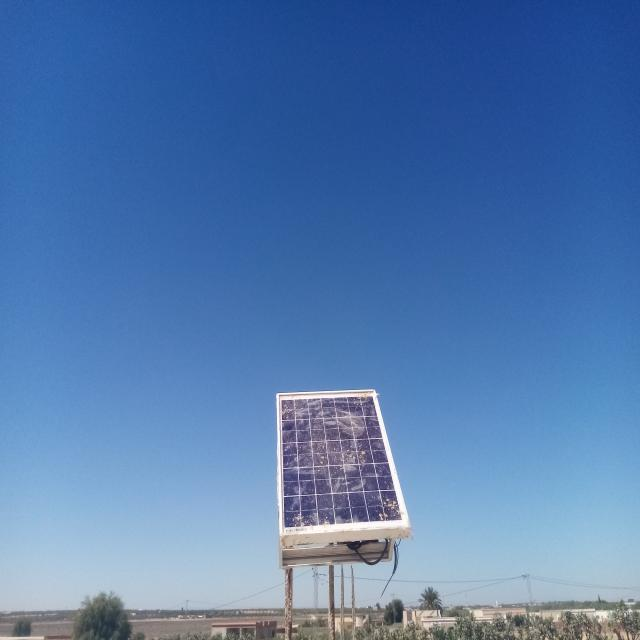faulty: (277, 389, 410, 534)
